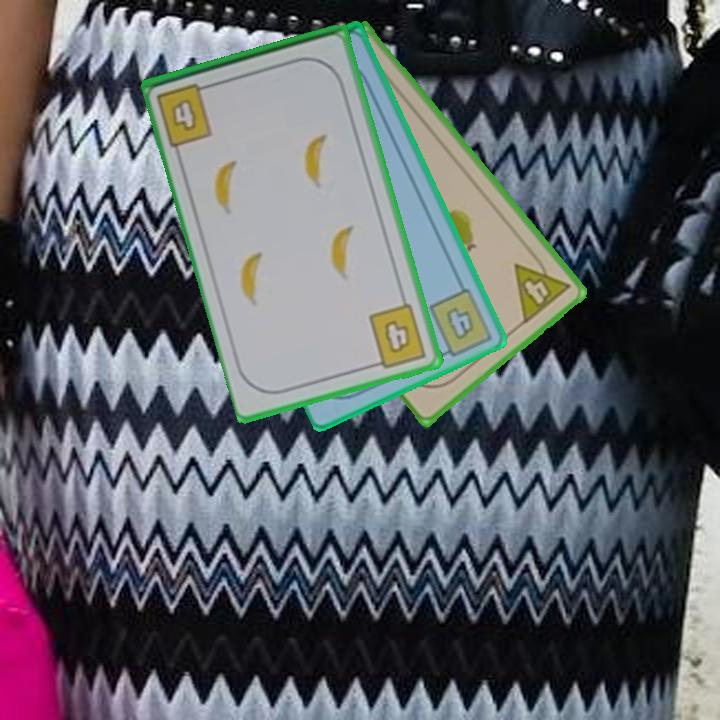4b: (425, 284, 496, 361), (365, 300, 430, 371), (153, 79, 218, 149)
4p: (510, 247, 573, 327)
